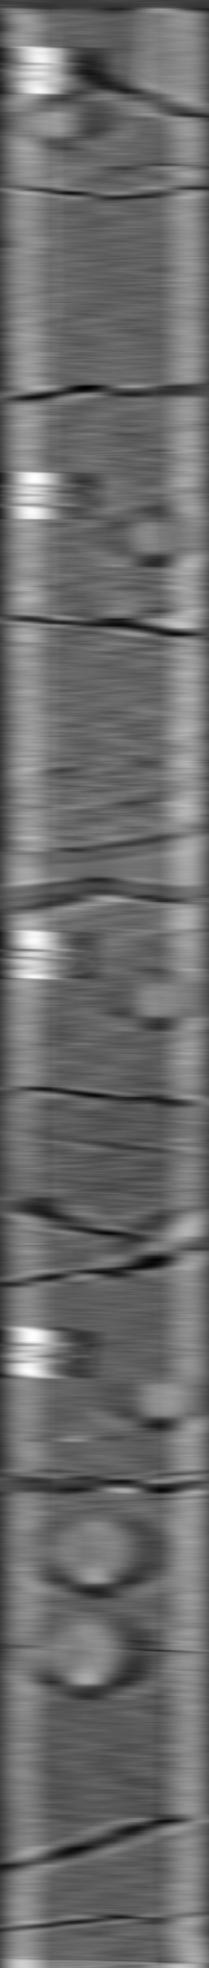hplug: (111, 489, 194, 579), (119, 958, 196, 1037), (23, 82, 105, 154), (123, 1362, 201, 1437)
scal: (43, 1500, 154, 1602), (33, 1604, 145, 1702)
vplug: (125, 3, 190, 126)
